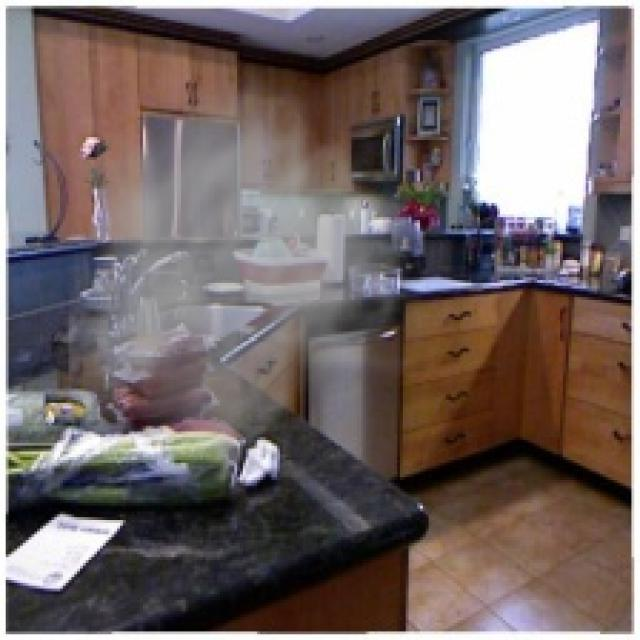smoke: (68, 63, 446, 477)
